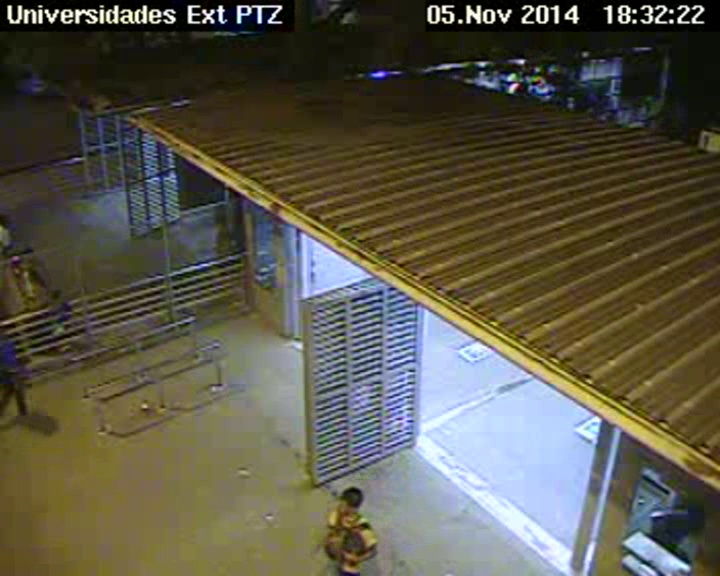person: (337, 484, 365, 516), (1, 326, 18, 343), (22, 248, 35, 263), (10, 255, 23, 268), (1, 213, 13, 227), (49, 290, 62, 302)
